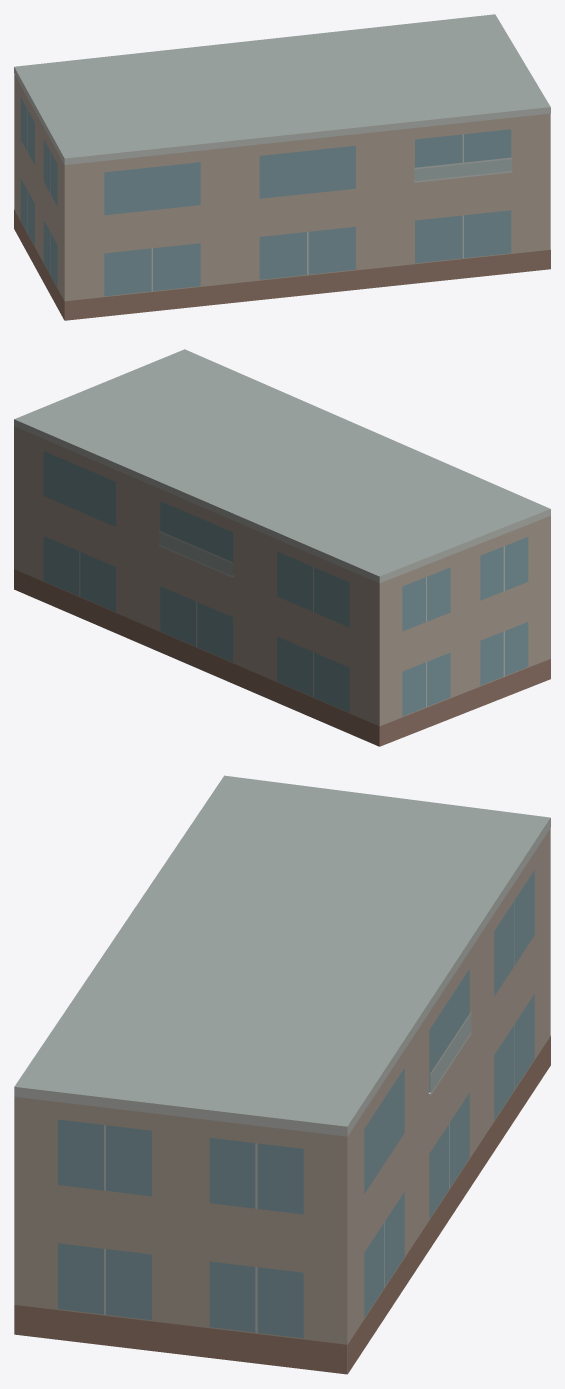
File: survey-upis-32939405.glb
3 views of the same model, one above another, from view 1: azimuth 30°, elevation 25°; view 2: azimuth 150°, elevation 25°; view 3: azimuth 270°, elevation 25° (orthographic). The views are drawn at different scales.
Parts seen in each view (by area): view 1: survey-upis-32939405.tmp; view 2: survey-upis-32939405.tmp; view 3: survey-upis-32939405.tmp.
Boxes of the visible parts, box(x1,y1,x2,y2) form: survey-upis-32939405.tmp: box(14, 14, 550, 320); survey-upis-32939405.tmp: box(14, 349, 550, 746); survey-upis-32939405.tmp: box(14, 775, 550, 1374).
Size of the model in its own units: 18.56 by 6.1 by 11.99.
